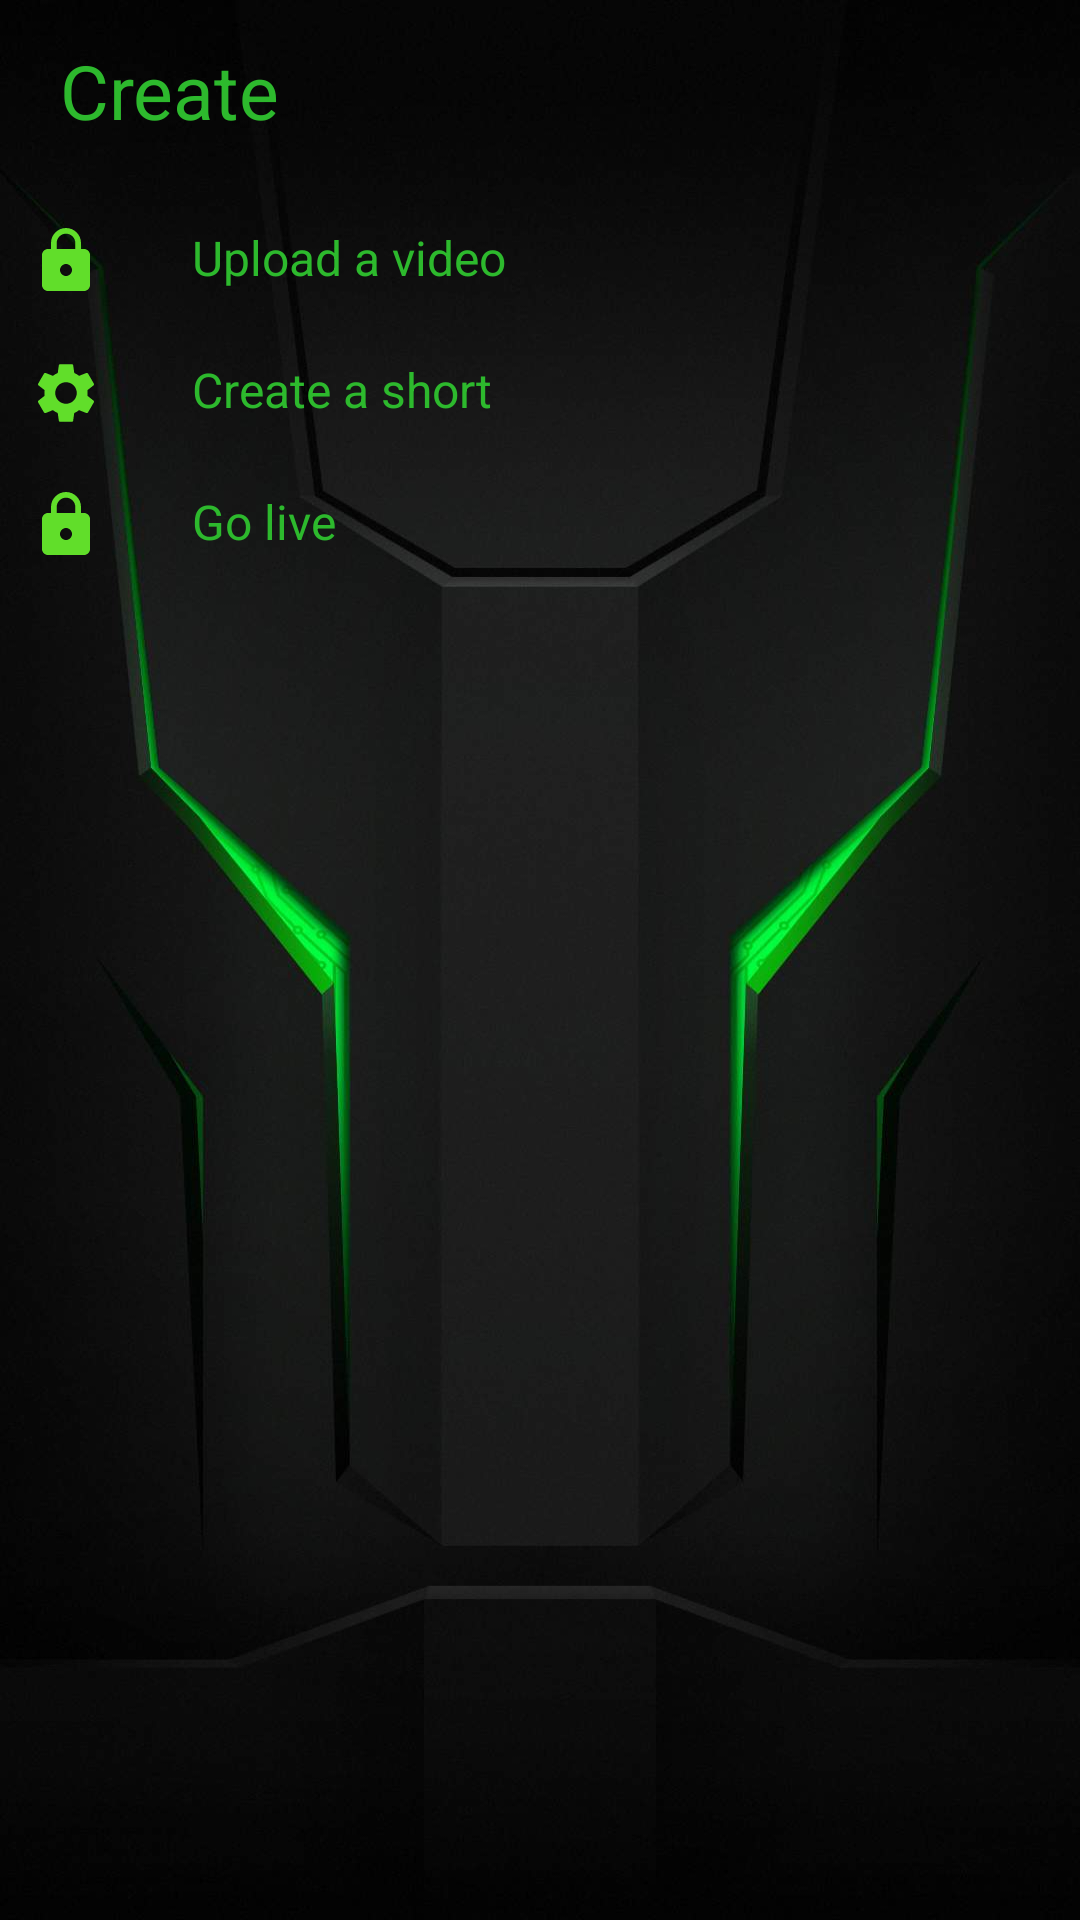

Icons on this 1080 x 1920 Android screen, each with its box as (left=x1, top=y1, right=x2, bottom=y2):
settings: (left=38, top=364, right=94, bottom=422)
